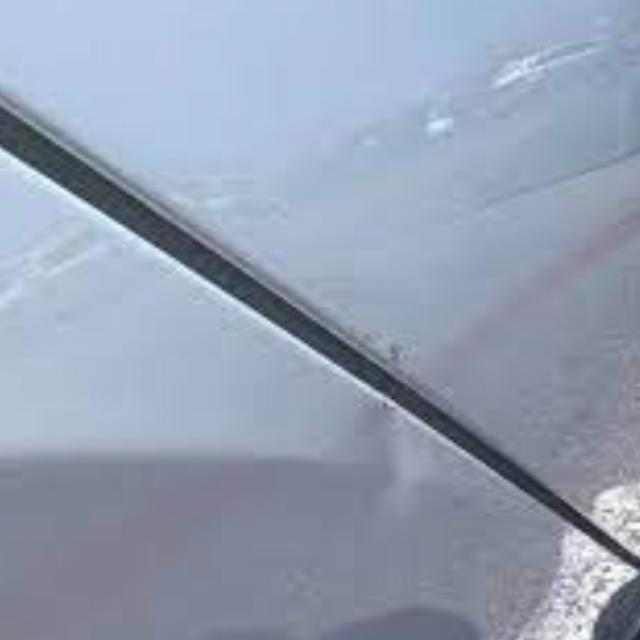dents: (243, 366, 507, 524)
